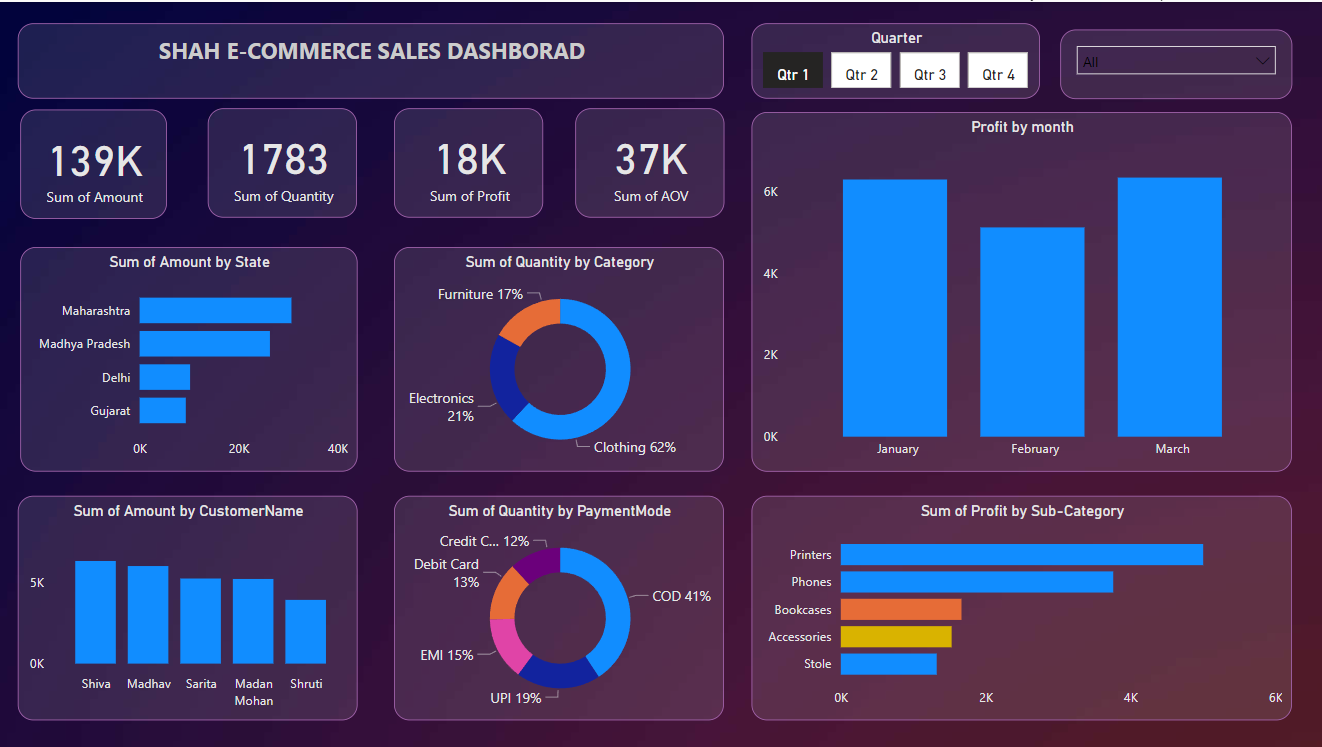

What the dashboard file says about the page in this screenshot:
{"tool":"powerbi","page":{"name":"Page 1","canvas":[1280,720],"ordinal":0},"visuals":[{"type":"textbox","box":[17.8,20.6,682,72.7],"z":0},{"type":"columnChart","title":"Profit by month","fields":{"Y":["Details.Profit"],"Category":["Orders.Order Date.Variation.Date Hierarchy.Month"]},"box":[725.9,105.7,521.4,347.2],"z":1000},{"type":"barChart","fields":{"Category":["Details.Sub-Category"],"Y":["Details.Profit"]},"box":[725.9,476.2,521.4,216.8],"z":2000},{"type":"donutChart","fields":{"Category":["Details.Category"],"Y":["Details.Quantity"]},"box":[381.5,236,318.4,216.8],"z":3000},{"type":"donutChart","fields":{"Category":["Details.PaymentMode"],"Y":["Details.Quantity"]},"box":[381.5,476.2,318.4,216.8],"z":4000},{"type":"card","fields":{"Values":["Details.Amount"]},"box":[20.6,104.3,141.3,105.7],"z":5000},{"type":"card","fields":{"Values":["Details.Quantity"]},"box":[201.7,102.9,144.1,105.7],"z":6000},{"type":"card","fields":{"Values":["Details.Profit"]},"box":[381.5,102.9,144.1,105.7],"z":7000},{"type":"card","fields":{"Values":["Details.AOV"]},"box":[555.7,102.9,144.1,105.7],"z":8000},{"type":"barChart","fields":{"Category":["Orders.State"],"Y":["Details.Amount"]},"box":[20.6,236,325.2,216.8],"z":9000},{"type":"columnChart","fields":{"Category":["Orders.CustomerName"],"Y":["Details.Amount"]},"box":[17.8,476.2,328,216.8],"z":10000},{"type":"advancedSlicerVisual","fields":{"Values":["Orders.Order Date.Variation.Date Hierarchy.Quarter"]},"box":[725.9,20.6,278.6,72.7],"z":11000},{"type":"slicer","fields":{"Values":["Orders.State"]},"box":[1023.7,26.1,223.7,67.2],"z":11001}]}

Visuals, with their boxes in screenshot pixels (x1, y1, x2, y2), scaled from the page's 1280x720 canvas onto the 1322x747 screenshot:
textbox: {"x1": 18, "y1": 21, "x2": 723, "y2": 97}
"Profit by month" columnChart: {"x1": 750, "y1": 110, "x2": 1288, "y2": 470}
barChart - Details.Sub-Category x Details.Profit: {"x1": 750, "y1": 494, "x2": 1288, "y2": 719}
donutChart - Details.Category x Details.Quantity: {"x1": 394, "y1": 245, "x2": 723, "y2": 470}
donutChart - Details.PaymentMode x Details.Quantity: {"x1": 394, "y1": 494, "x2": 723, "y2": 719}
card - Details.Amount: {"x1": 21, "y1": 108, "x2": 167, "y2": 218}
card - Details.Quantity: {"x1": 208, "y1": 107, "x2": 357, "y2": 216}
card - Details.Profit: {"x1": 394, "y1": 107, "x2": 543, "y2": 216}
card - Details.AOV: {"x1": 574, "y1": 107, "x2": 723, "y2": 216}
barChart - Orders.State x Details.Amount: {"x1": 21, "y1": 245, "x2": 357, "y2": 470}
columnChart - Orders.CustomerName x Details.Amount: {"x1": 18, "y1": 494, "x2": 357, "y2": 719}
advancedSlicerVisual - Orders.Order Date.Variation.Date Hierarchy.Quarter: {"x1": 750, "y1": 21, "x2": 1037, "y2": 97}
slicer - Orders.State: {"x1": 1057, "y1": 27, "x2": 1288, "y2": 97}
